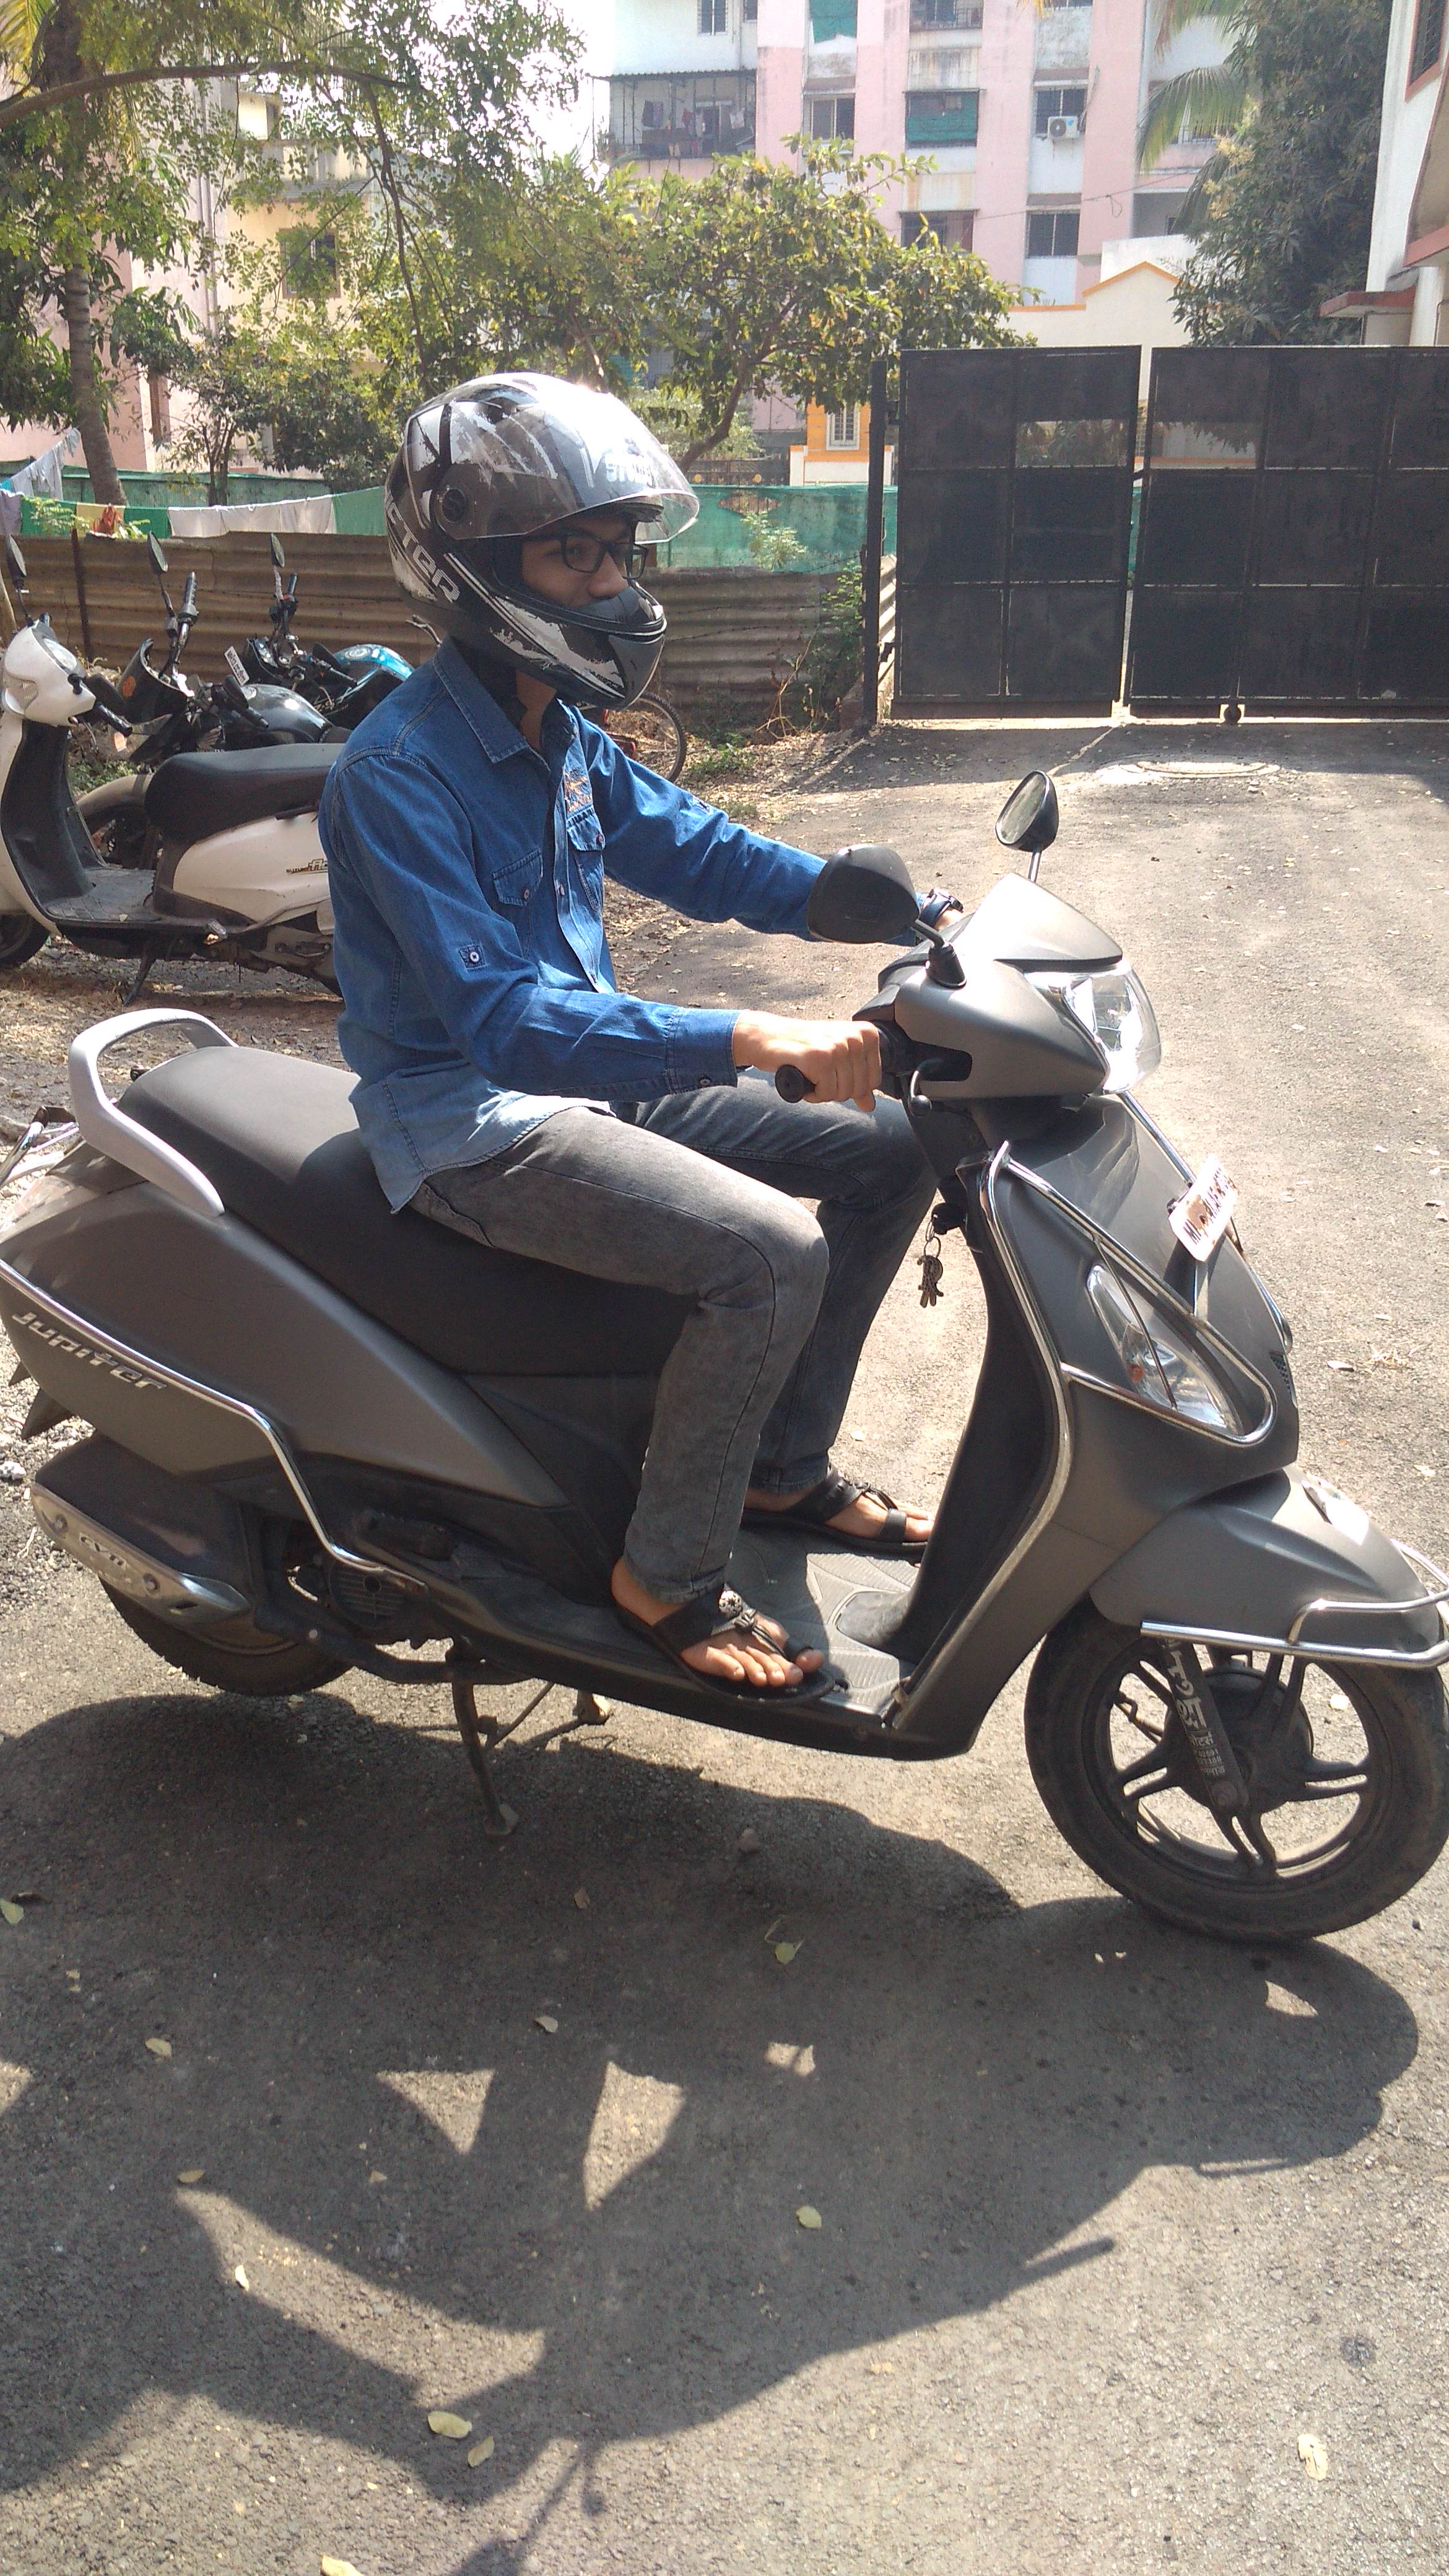helmet: (308, 343, 934, 1325)
